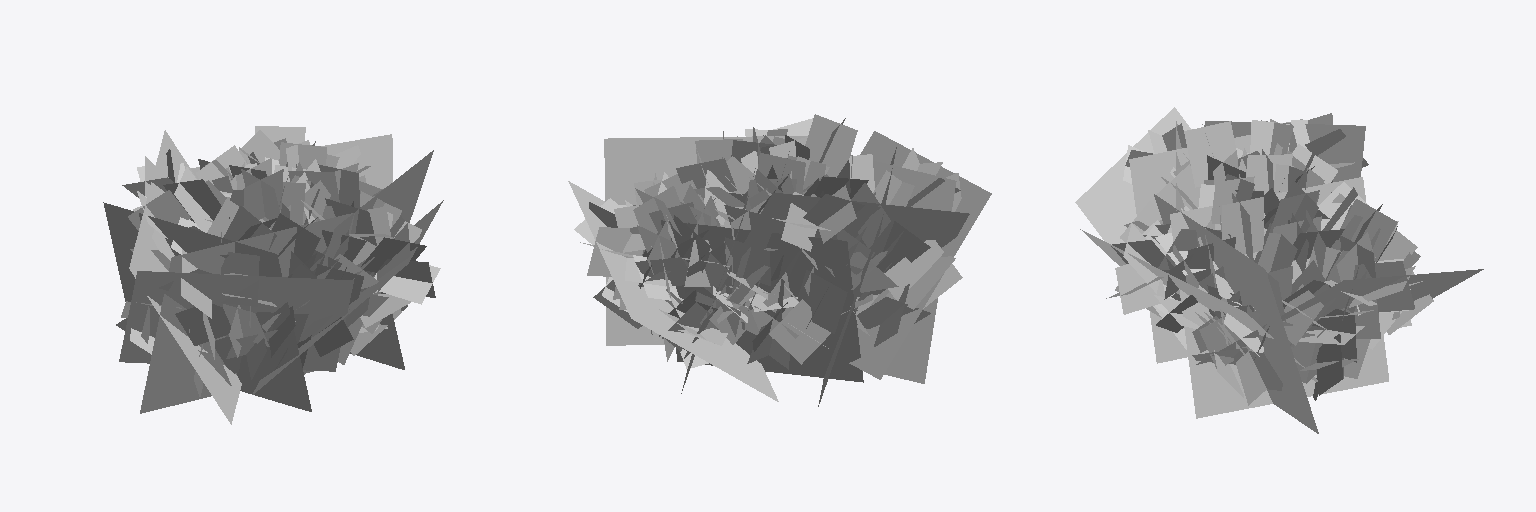
The model's file is bush_02.obj.
3 renders of one model, left to right at view 1: azimuth 30°, elevation 25°; view 2: azimuth 150°, elevation 25°; view 3: azimuth 270°, elevation 25°, orthographic.
Parts seen in each view (by area): view 1: bush_02.obj; view 2: bush_02.obj; view 3: bush_02.obj.
Part boxes in pixels (left/top/right/bottom): bush_02.obj: left=103, top=126, right=443, bottom=424; bush_02.obj: left=568, top=114, right=991, bottom=406; bush_02.obj: left=1075, top=107, right=1483, bottom=433.
Size of the model in its own units: 97.54 by 63.69 by 101.